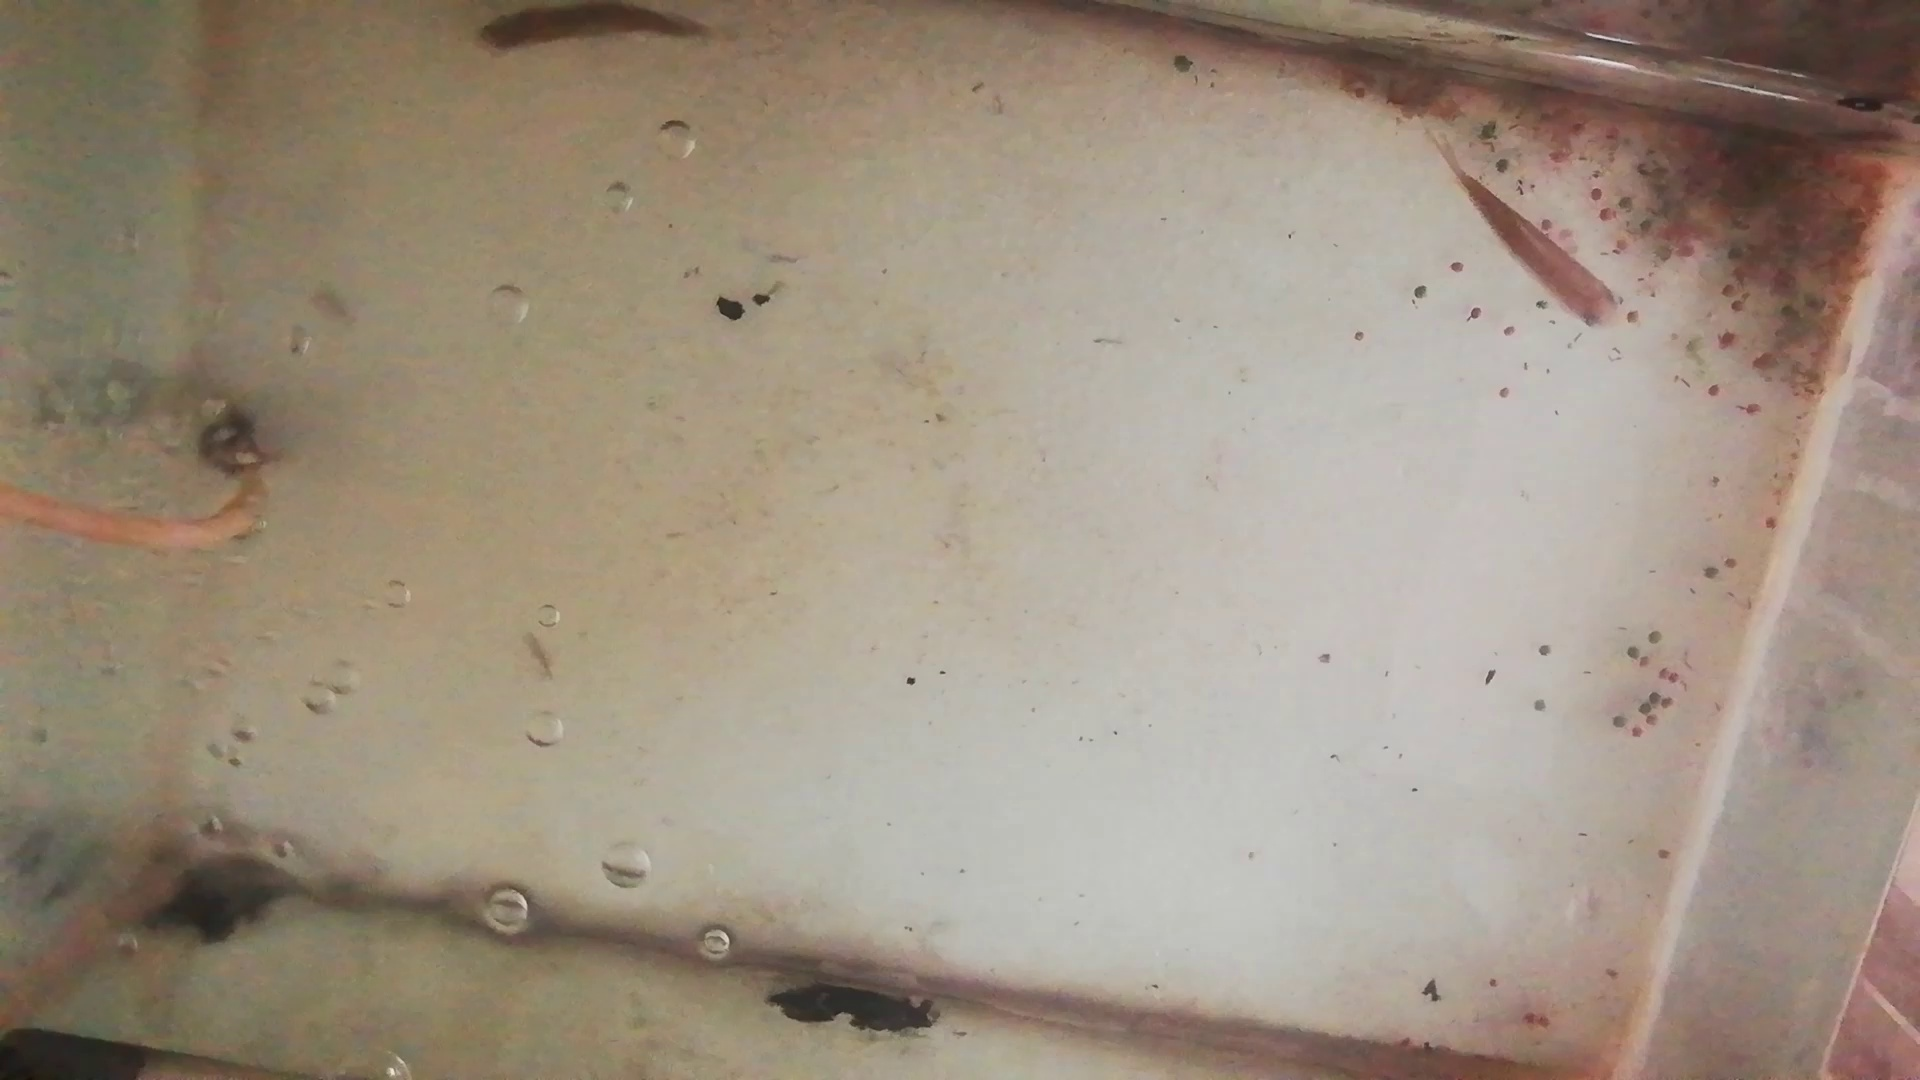fish: (1433, 135, 1625, 330), (464, 4, 709, 53)
